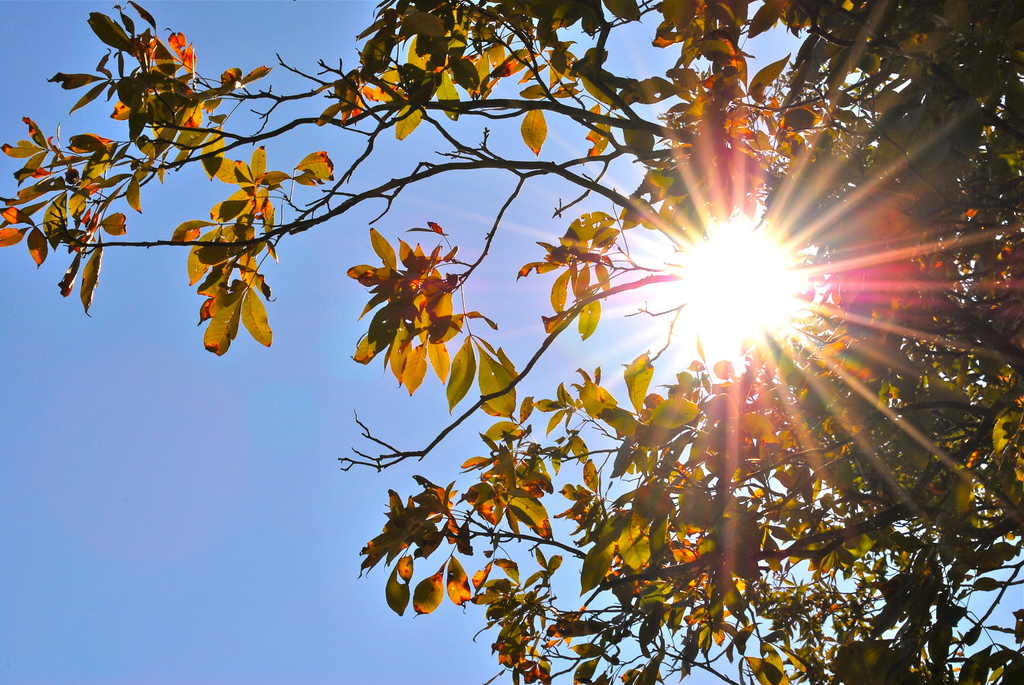Tree: (213, 17, 1017, 685)
